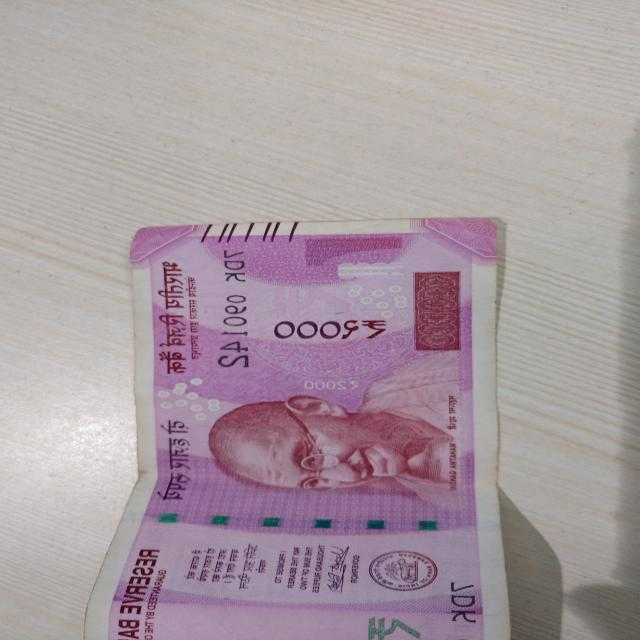Currency: (88, 223, 509, 640)
